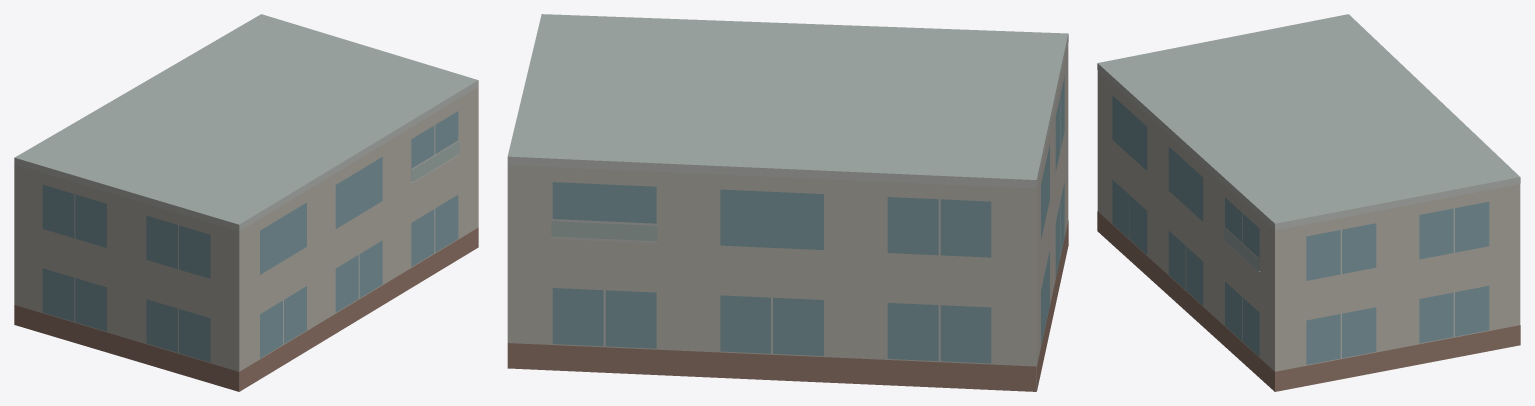
File: survey-upis-32791969.glb
3 views of the same model, side by side, from view 1: azimuth 30°, elevation 25°; view 2: azimuth 150°, elevation 25°; view 3: azimuth 270°, elevation 25° (orthographic). The views are drawn at different scales.
Visible parts, largest first — view 1: survey-upis-32791969.tmp; view 2: survey-upis-32791969.tmp; view 3: survey-upis-32791969.tmp.
Part boxes in pixels (<box>): survey-upis-32791969.tmp: <box>14,14,478,391</box>; survey-upis-32791969.tmp: <box>507,14,1068,391</box>; survey-upis-32791969.tmp: <box>1097,14,1520,391</box>.
Size of the model in its own units: 16.33 by 6.1 by 13.92.
